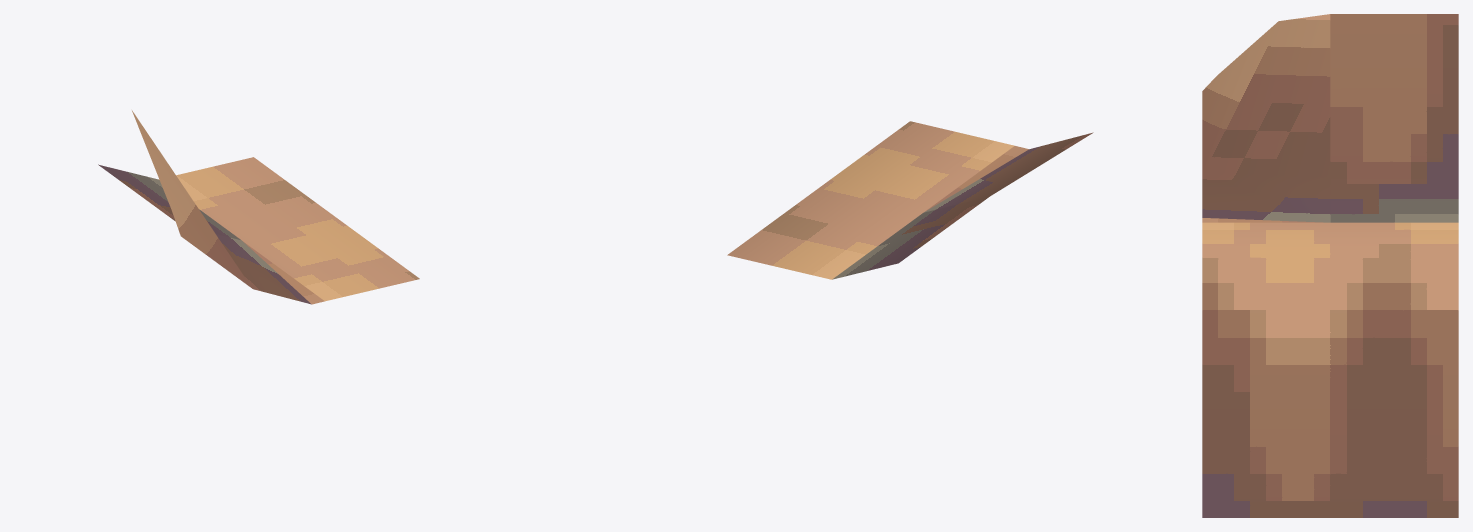
3 renders of one model, left to right at view 1: azimuth 30°, elevation 25°; view 2: azimuth 150°, elevation 25°; view 3: azimuth 270°, elevation 25°, orthographic. The views are drawn at different scales.
Bounding box in the file's own units: 1.29 × 1.57 × 1.
Materials: 2 (2 with a texture image).
